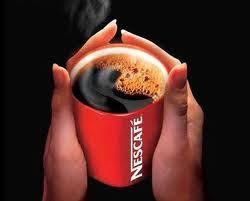nescafe-mug: (64, 43, 165, 179)
